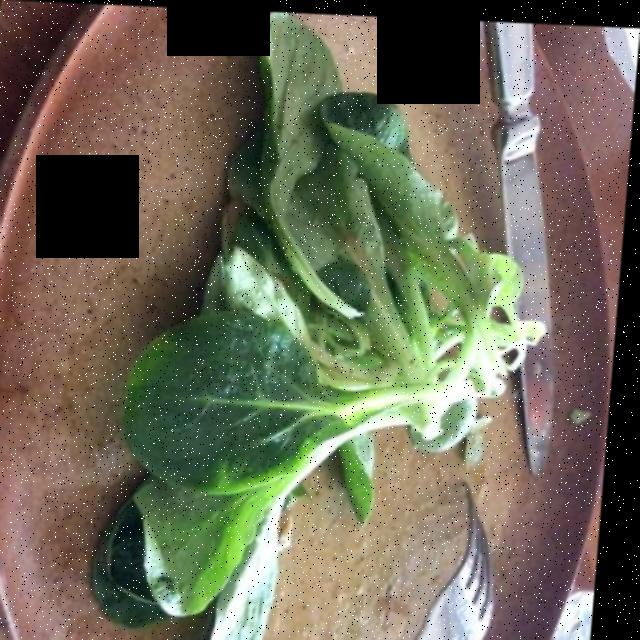oil-vinegar-salad-dressing: (113, 27, 516, 630)
salad-lambs-ear: (101, 39, 515, 636)
